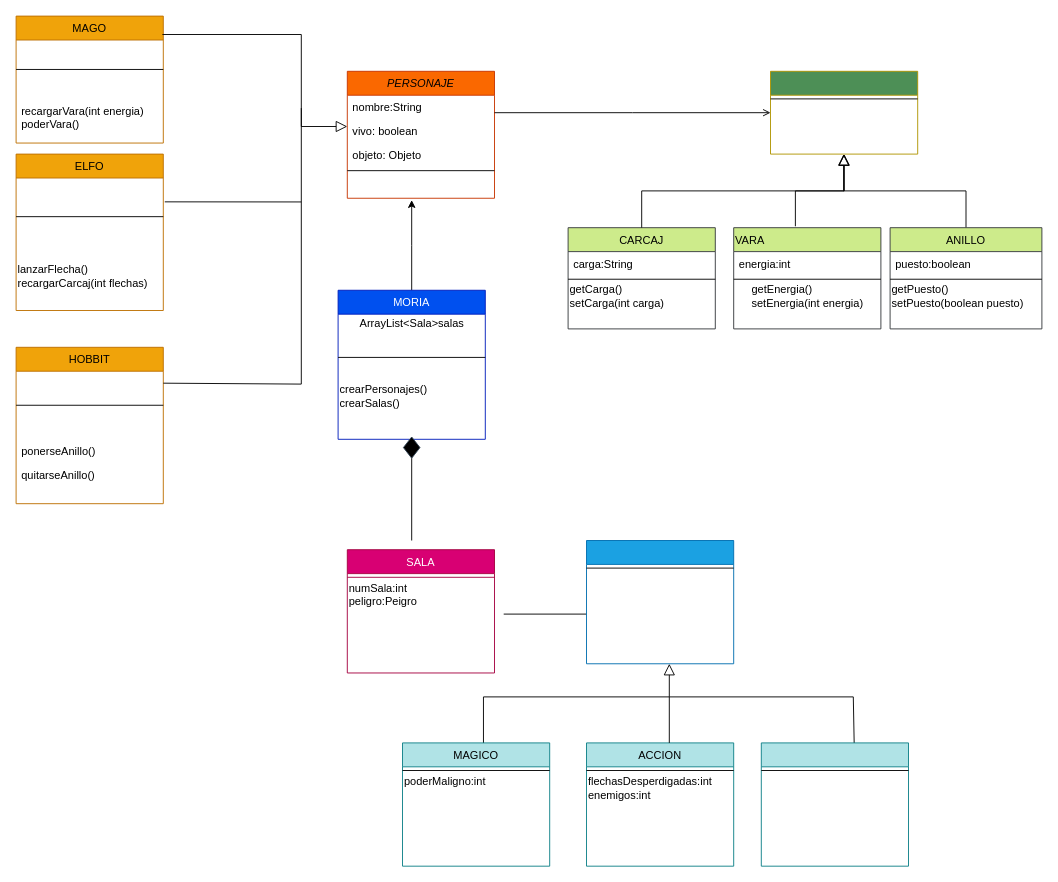
This 1058x882 diagram has some shape labels left out. Each missing label, with the centre of its shape:
"HABILIDAD" goes at point 834,804.
"OBJETO" goes at point 844,112.
"PELIGRO" goes at point 660,602.
